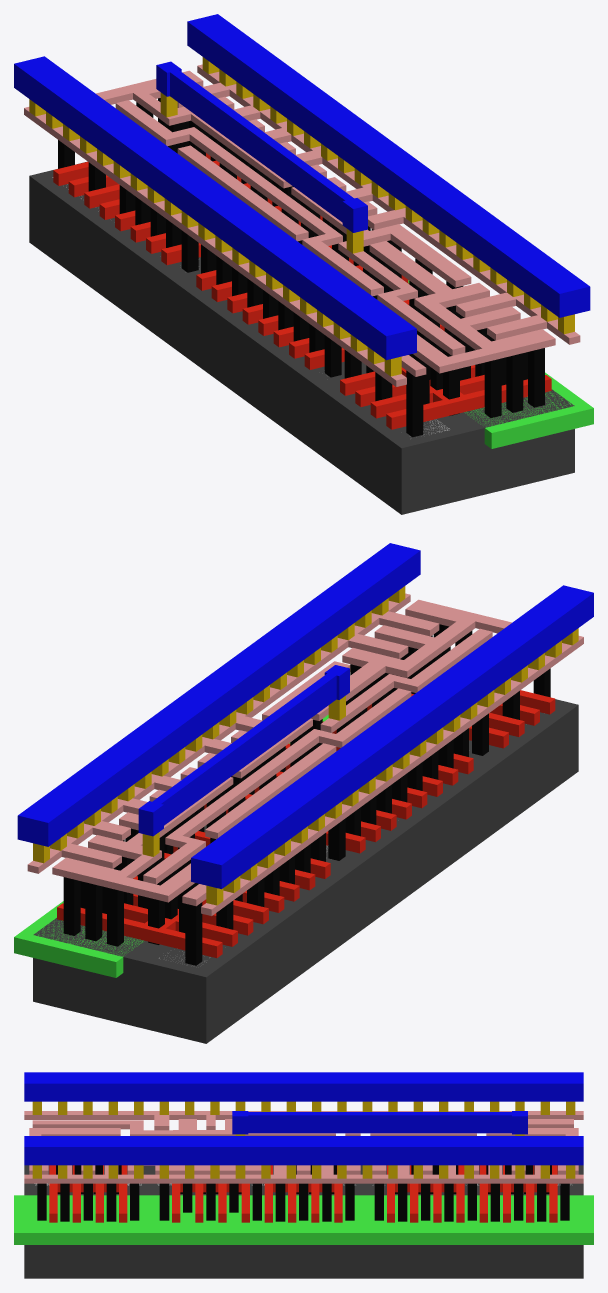
Rendered from sky130_fd_sc_hd__xnor2_4.obj.
3 views of the same model, one above another, from view 1: azimuth 30°, elevation 25°; view 2: azimuth 150°, elevation 25°; view 3: azimuth 270°, elevation 25° (orthographic). The views are drawn at different scales.
Parts seen in each view (by area): view 1: metal1, subs, li, licon, poly, mcon, nwell; view 2: metal1, subs, li, licon, poly, mcon, nwell; view 3: metal1, subs, nwell, li, licon, poly, mcon.
Boxes of the visible parts, x1,y1,x2,y2 form: metal1: (14,14,590,360); subs: (29,162,574,514); li: (24,64,580,386); licon: (58,98,544,437); poly: (53,153,551,429); mcon: (29,57,574,376); nwell: (408,280,593,448); metal1: (17,543,593,889); subs: (33,699,578,1043); li: (27,593,583,915); licon: (63,624,550,965); poly: (57,690,555,958); mcon: (33,586,578,905); nwell: (14,714,328,977); metal1: (24,1072,583,1165); subs: (24,1165,583,1278); nwell: (14,1195,593,1244); li: (24,1111,583,1183); licon: (37,1165,569,1221); poly: (49,1165,557,1222); mcon: (32,1101,575,1178).
Bounding box in the file's own units: 3.2 × 2.74 × 10.5.
